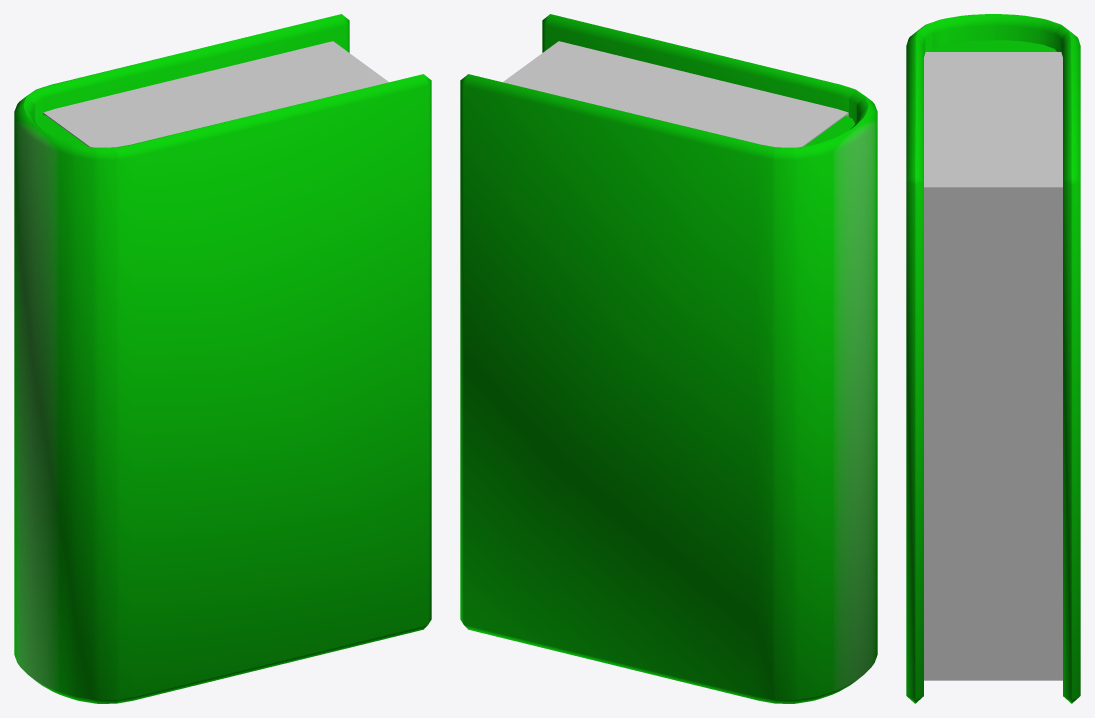
Rendered from book-green.glb.
3 renders of one model, left to right at view 1: azimuth 30°, elevation 25°; view 2: azimuth 150°, elevation 25°; view 3: azimuth 270°, elevation 25°, orthographic. The views are drawn at different scales.
Visible parts, largest first — view 1: Book.003; view 2: Book.003; view 3: Book.003.
Boxes of the visible parts, left/top/right/bottom form: Book.003: left=14, top=14, right=431, bottom=703; Book.003: left=460, top=14, right=877, bottom=703; Book.003: left=906, top=14, right=1080, bottom=703.
Size of the model in its own units: 0.8235 by 1.22 by 0.3622.
Materials: 1 (1 with a texture image).
